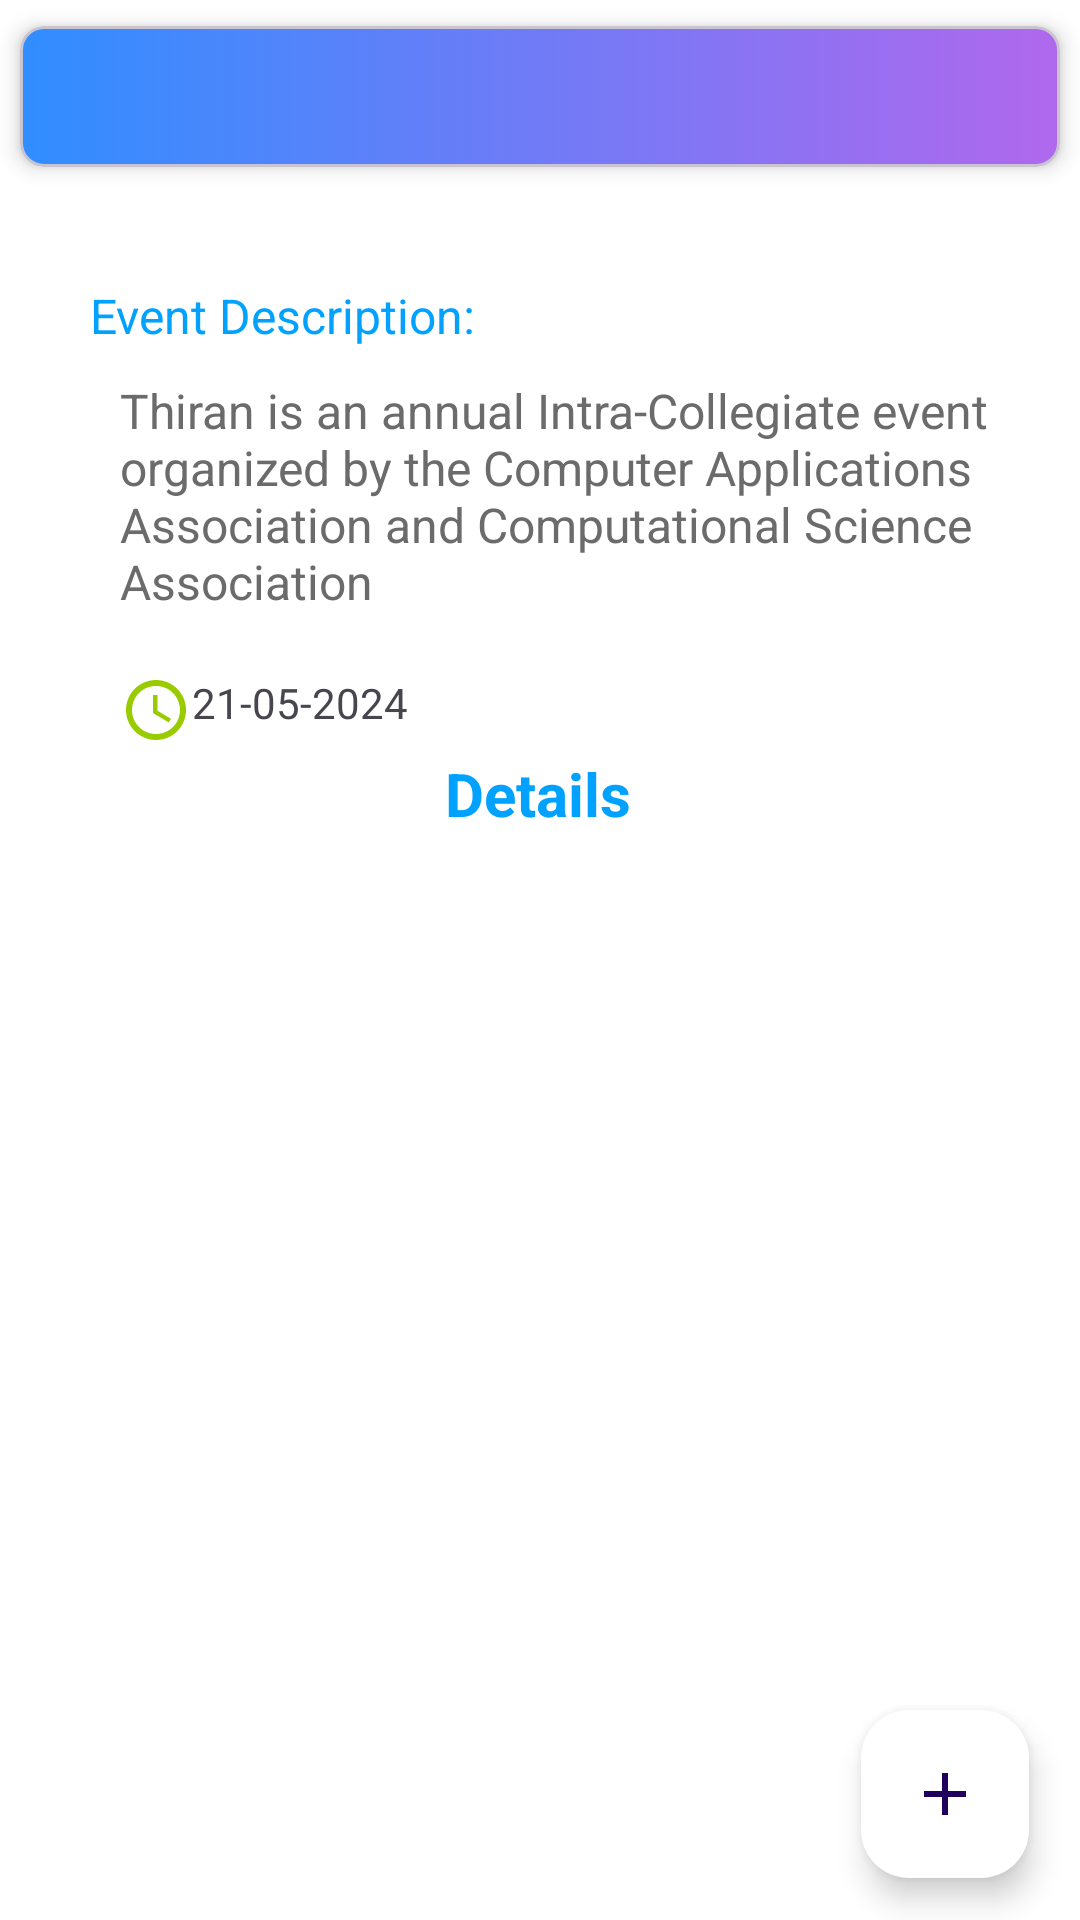

Icons on this 1080*1920 Android screen, each with its box as [x1,y1,x2,y2]:
add: [867,1773,1029,1878]
schedule: [126,680,186,740]
